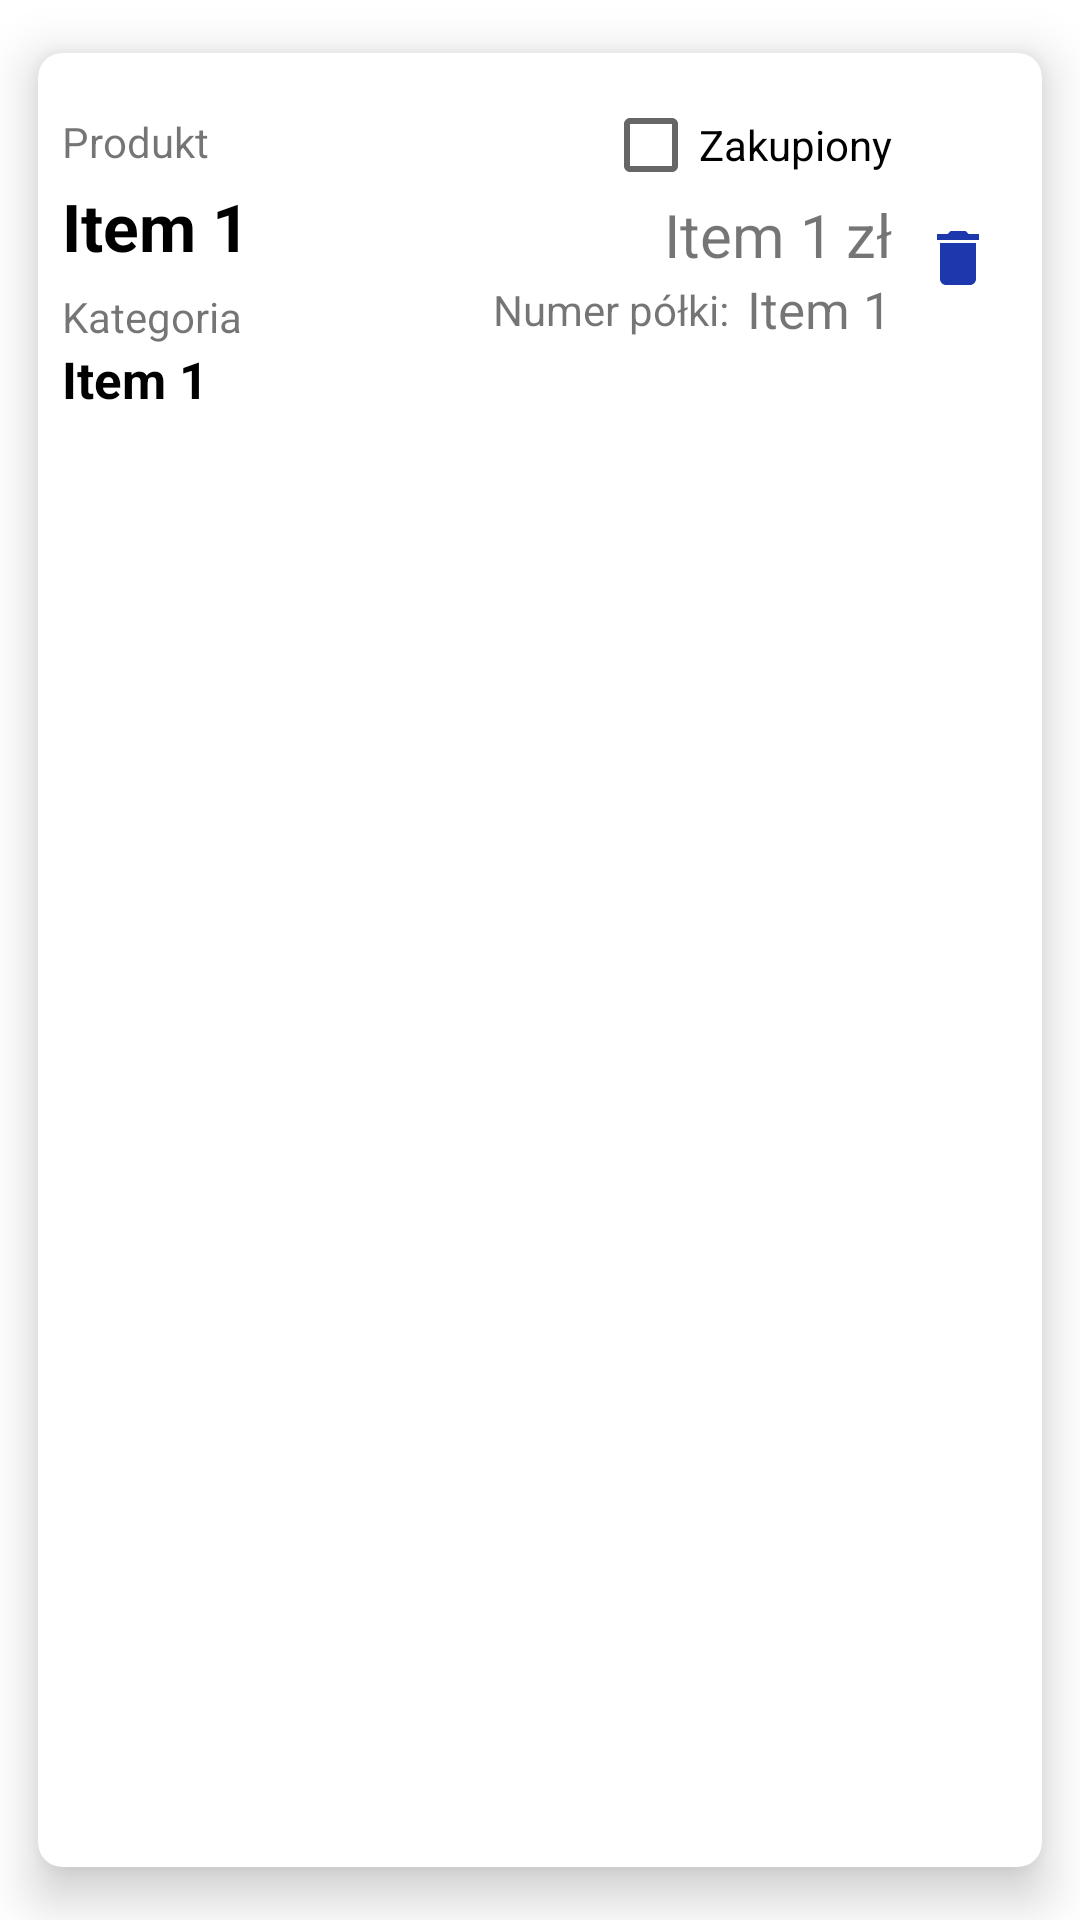

Icon bounding boxes for this 1080 × 1920 phone screenshot, format (x1, y1, x2, y2):
delete prod: (937, 231, 979, 285)
